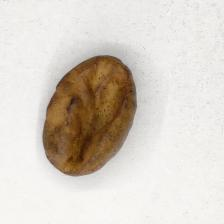NG: (67, 65, 121, 165)
